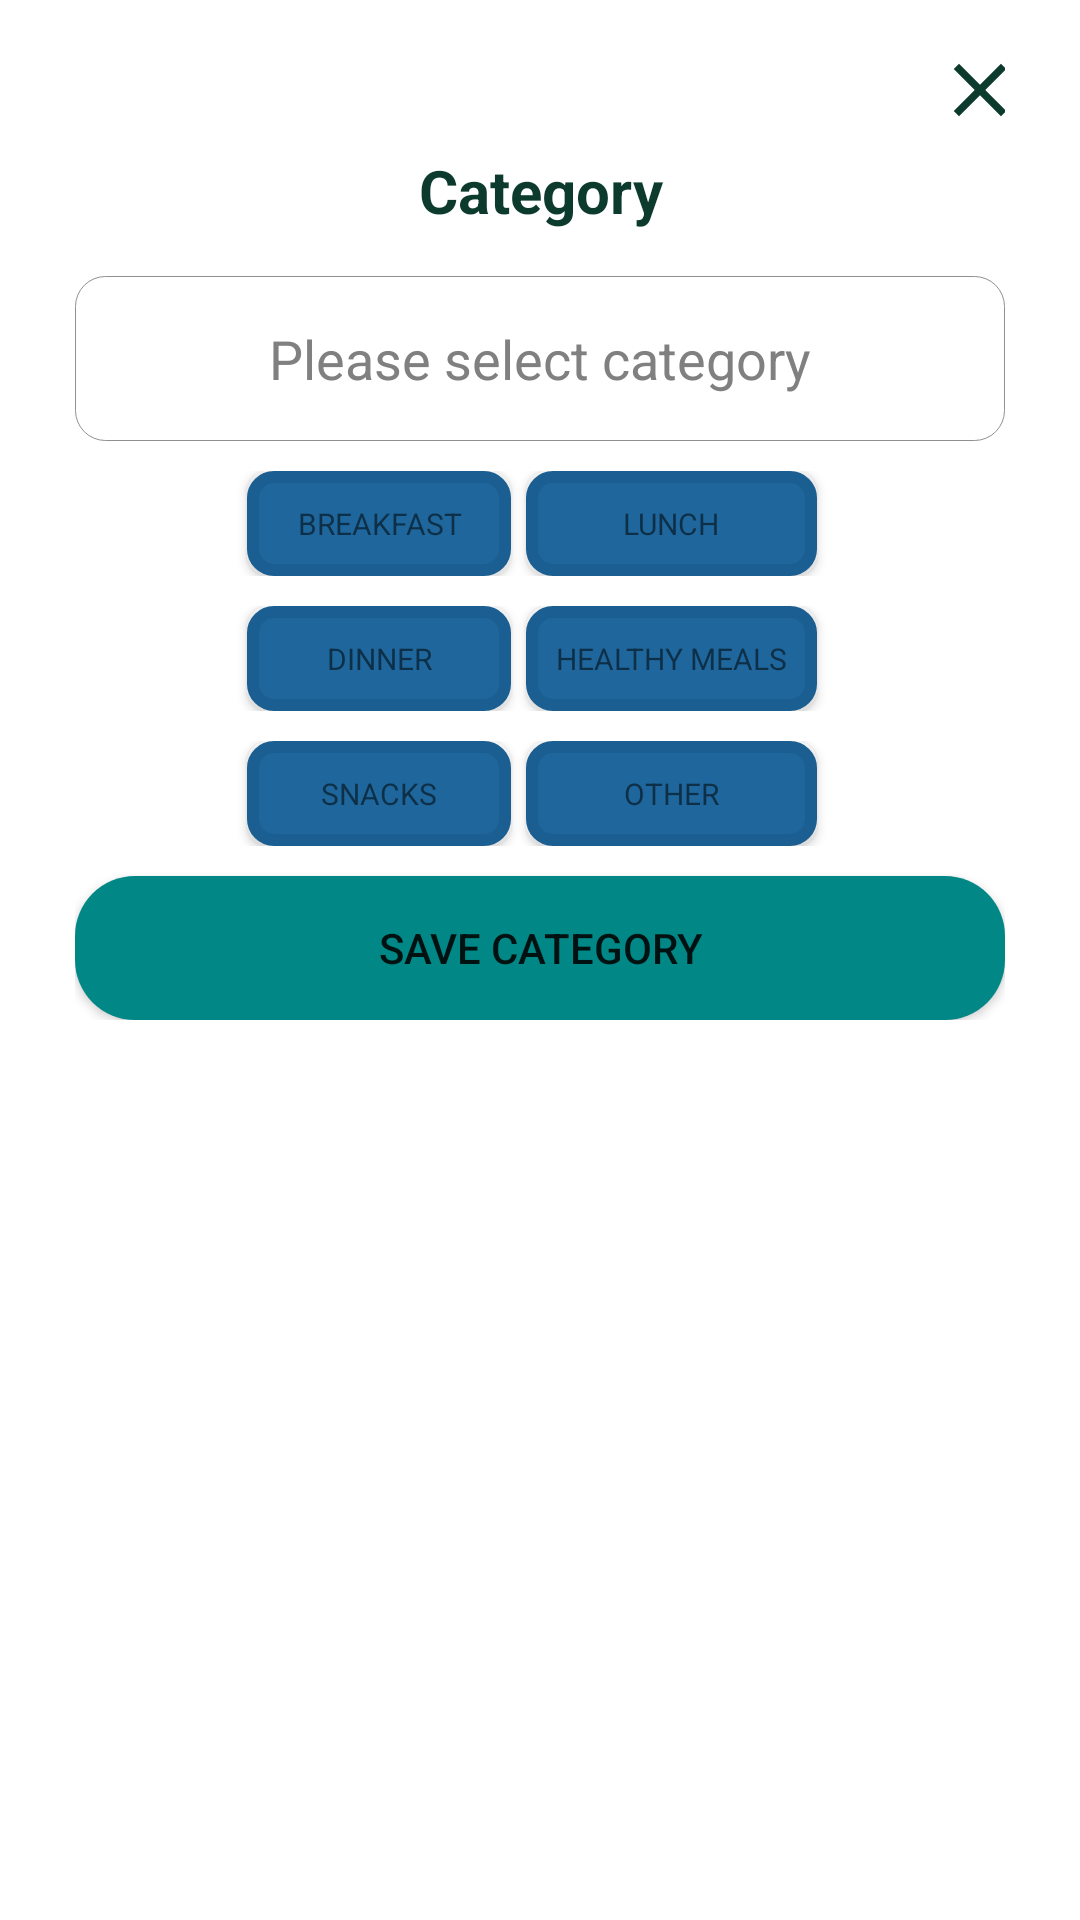

Icons on this 1080×1920 Android screen, each with the point to tap as (x,y):
close: (979,90)
